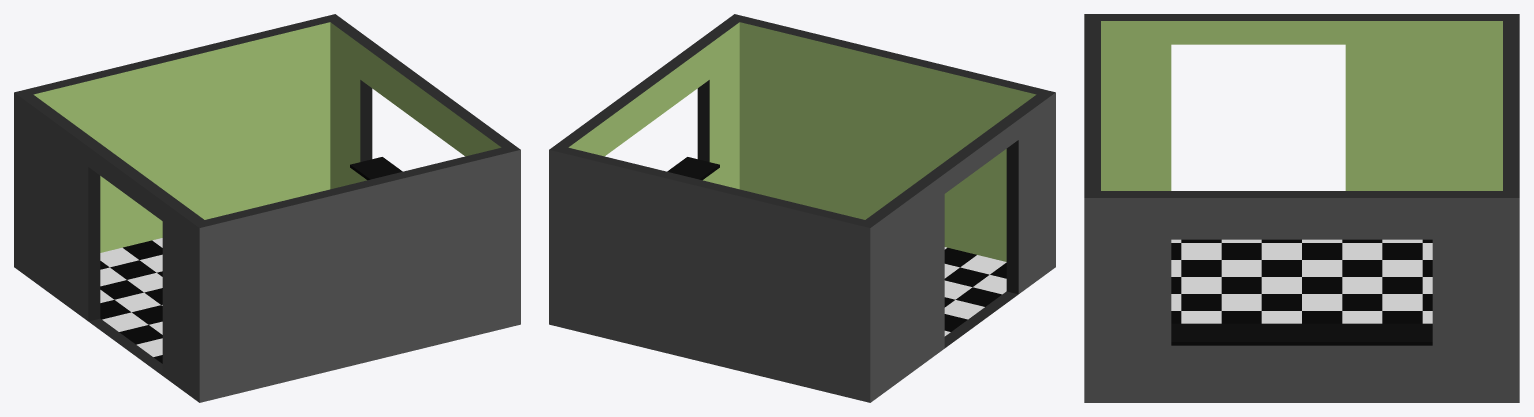
The model's file is Room.fbx.
3 renders of one model, left to right at view 1: azimuth 30°, elevation 25°; view 2: azimuth 150°, elevation 25°; view 3: azimuth 270°, elevation 25°, orthographic. The views are drawn at different scales.
Parts seen in each view (by area): view 1: Plane; view 2: Plane; view 3: Plane.
Boxes of the visible parts, x1,y1,x2,y2 form: Plane: (14, 14, 520, 402); Plane: (549, 14, 1055, 402); Plane: (1084, 14, 1519, 402).
Size of the model in its own units: 516 by 260 by 500.
